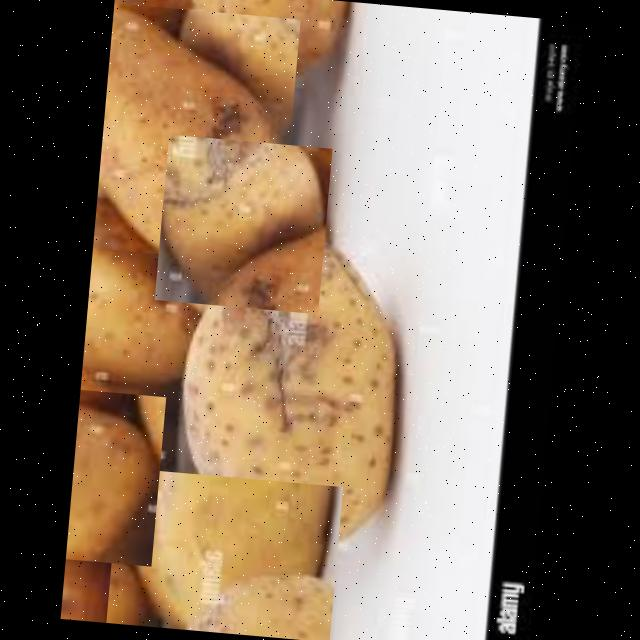Diseased-fungal potato: (164, 223, 416, 554)
Potato: (90, 3, 300, 264), (104, 467, 341, 640), (153, 134, 331, 314), (80, 223, 210, 392), (64, 388, 165, 566)
